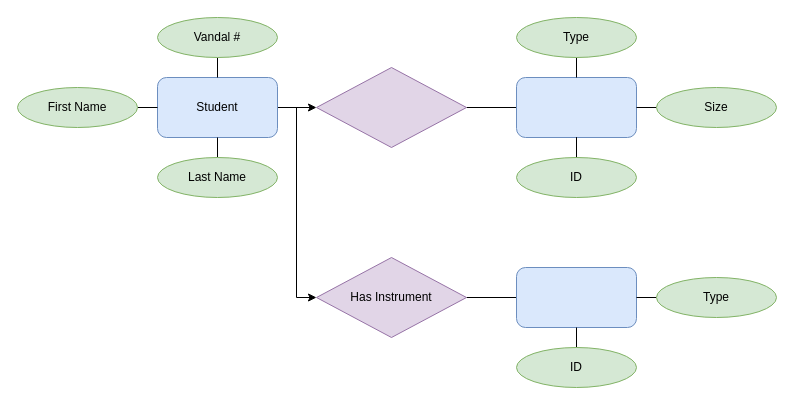
Some shapes in this 794 by 405 pixel diagram are drawn without their labels. The shapes that lost their labels are listed below. From the top down, each one's box as (x1, y1, x2, y2) in pixels, then its label:
(316, 66, 466, 148): Has Clothing
(516, 76, 636, 138): Clothing Piece
(516, 266, 636, 328): Instrument
